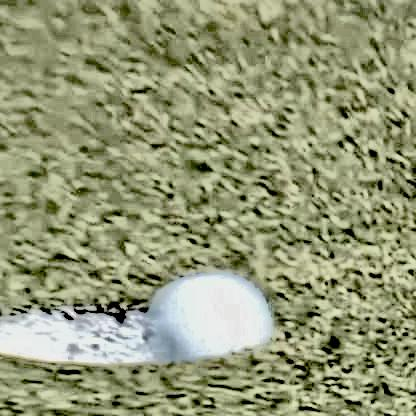golfball: (144, 286, 270, 377)
